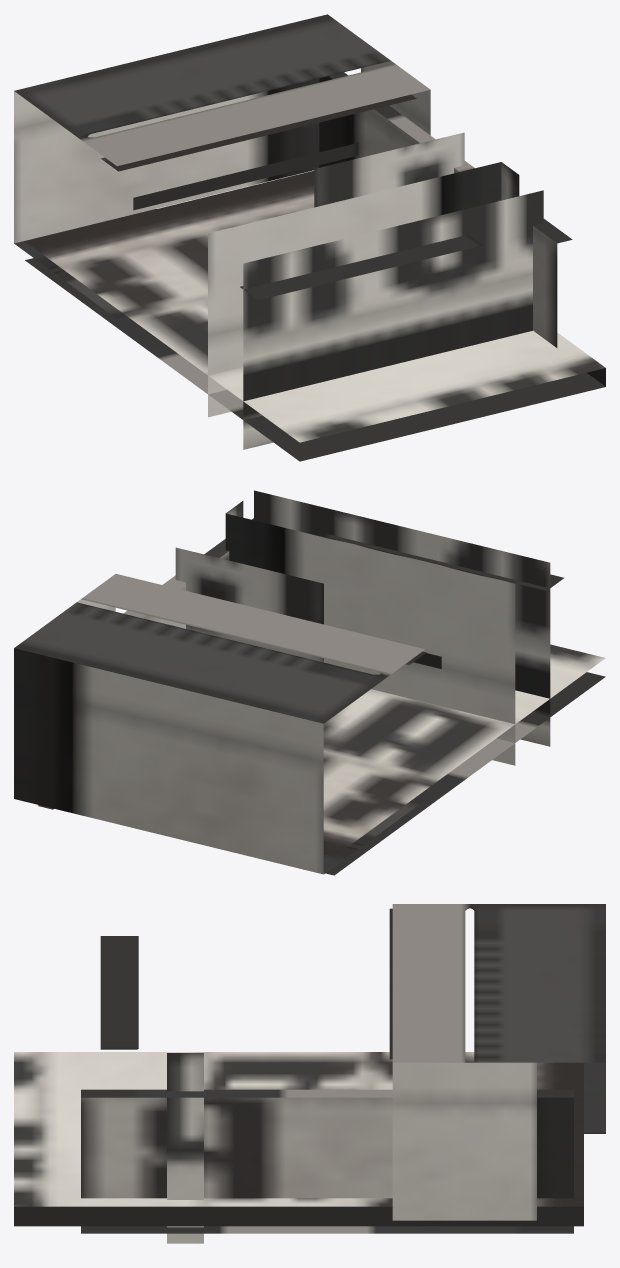
File: section-0.obj
3 views of the same model, one above another, from view 1: azimuth 30°, elevation 25°; view 2: azimuth 150°, elevation 25°; view 3: azimuth 270°, elevation 25° (orthographic). The views are drawn at different scales.
Bounding box in the file's own units: 0.91 × 0.53 × 1.44.
